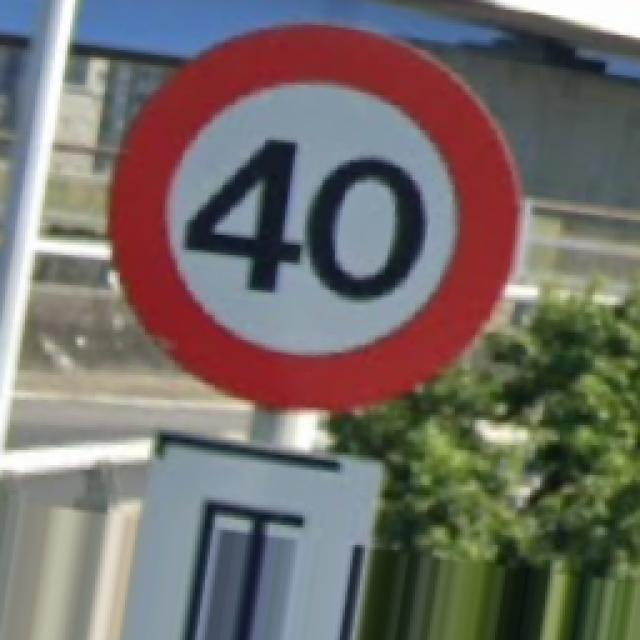Speed Limit -40-: (112, 22, 515, 408)
